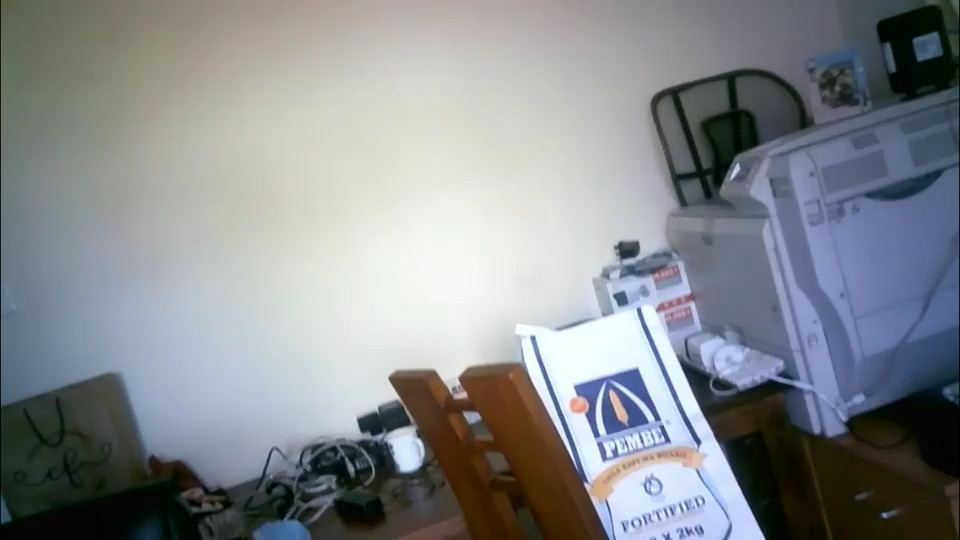wheat_flour_blue_label: (521, 303, 762, 539)
